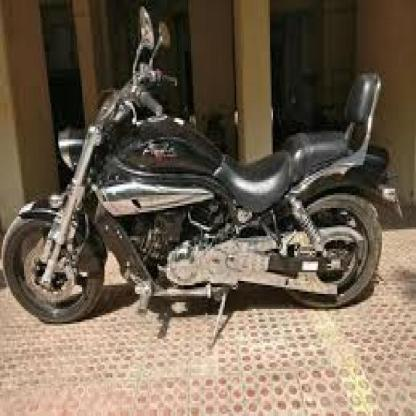bike: (0, 11, 402, 337)
